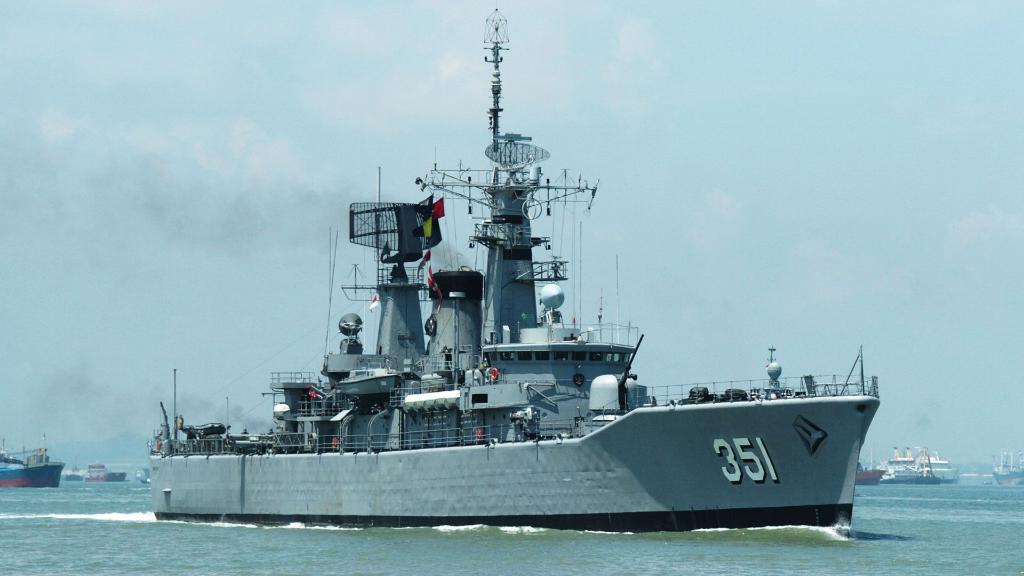Warship: (144, 7, 884, 531)
